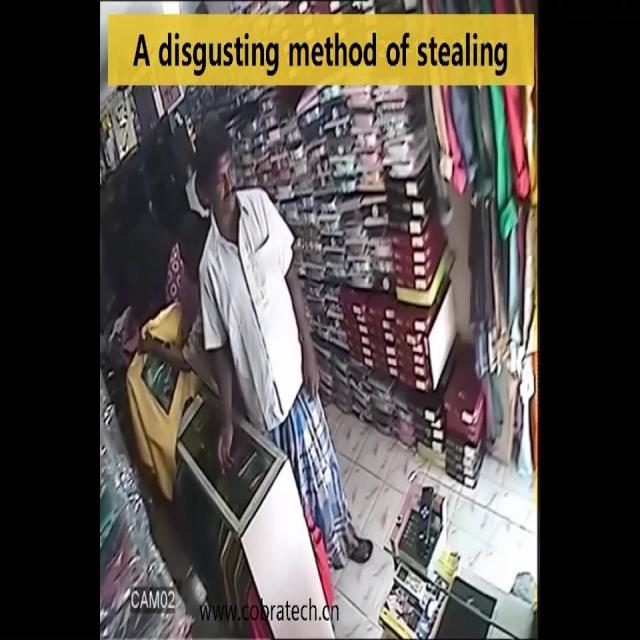Product: (130, 323, 179, 447)
normal: (188, 128, 354, 584)
shoplifting: (154, 221, 203, 376)
